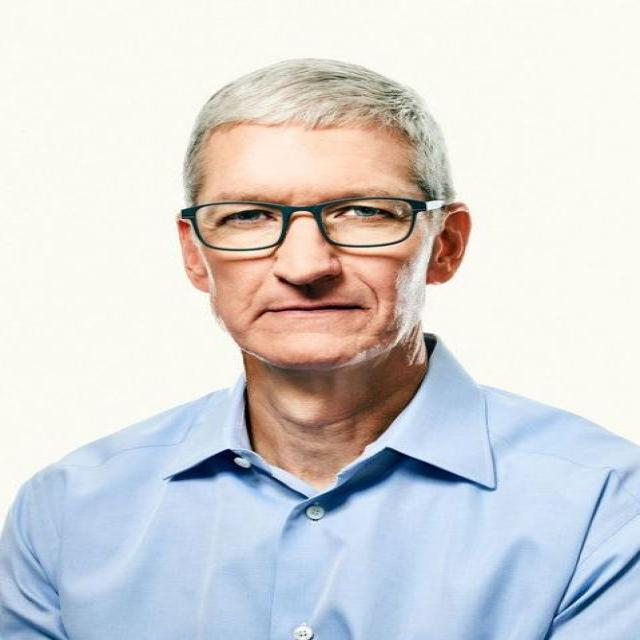glasses: (179, 196, 449, 250)
